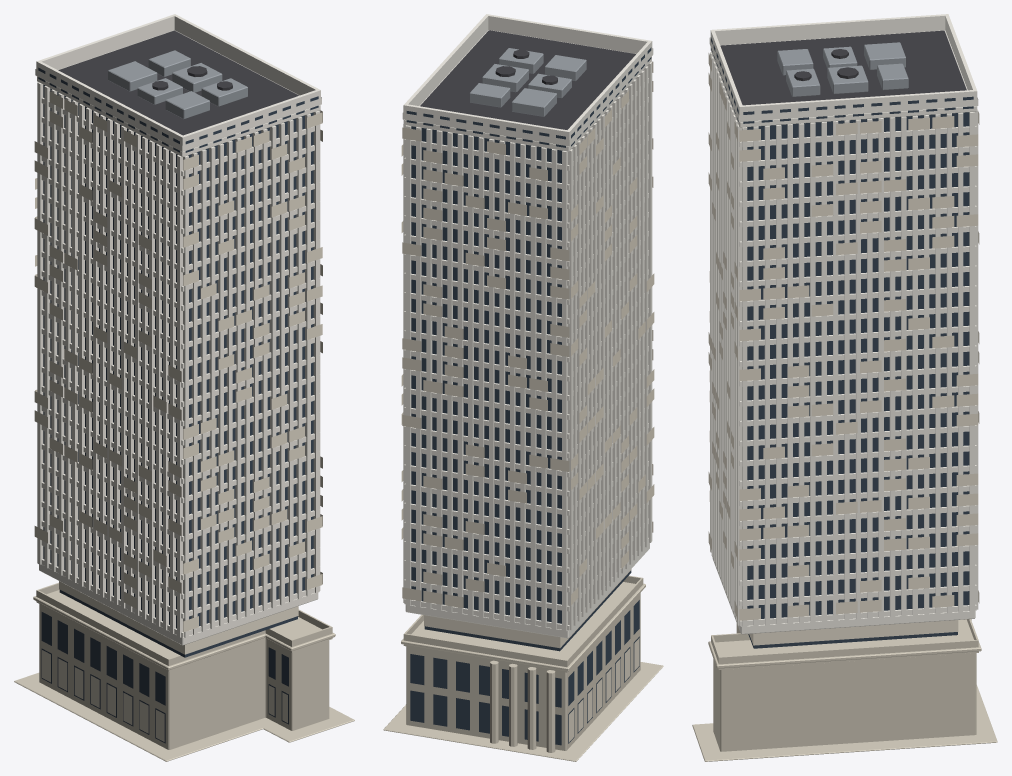
Rendered from 456-montgomery-street.glb.
3 renders of one model, left to right at view 1: azimuth 30°, elevation 25°; view 2: azimuth 150°, elevation 25°; view 3: azimuth 270°, elevation 25°, orthographic. The views are drawn at different scales.
Visible parts, largest first — view 1: 456-montgomery-street_body, 456-montgomery-street_night_glow; view 2: 456-montgomery-street_body, 456-montgomery-street_night_glow; view 3: 456-montgomery-street_body, 456-montgomery-street_night_glow.
Part boxes in pixels (x1,y1,x2,y2): 456-montgomery-street_body: (14, 14, 354, 761); 456-montgomery-street_night_glow: (34, 69, 322, 741); 456-montgomery-street_body: (383, 14, 663, 761); 456-montgomery-street_night_glow: (401, 48, 654, 742); 456-montgomery-street_body: (692, 14, 997, 761); 456-montgomery-street_night_glow: (708, 37, 979, 645).
Size of the model in its own units: 41.84 by 115 by 49.36.
